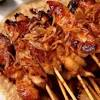rendang: (1, 1, 100, 97)
